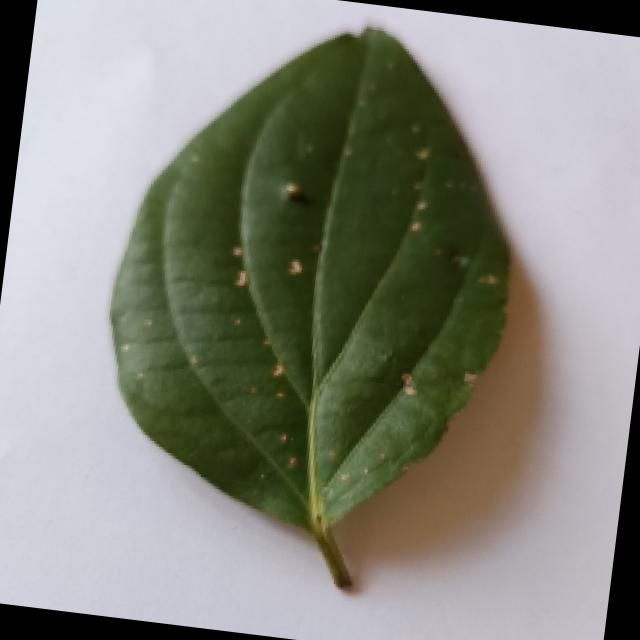pollu-disease: (77, 6, 586, 609)
